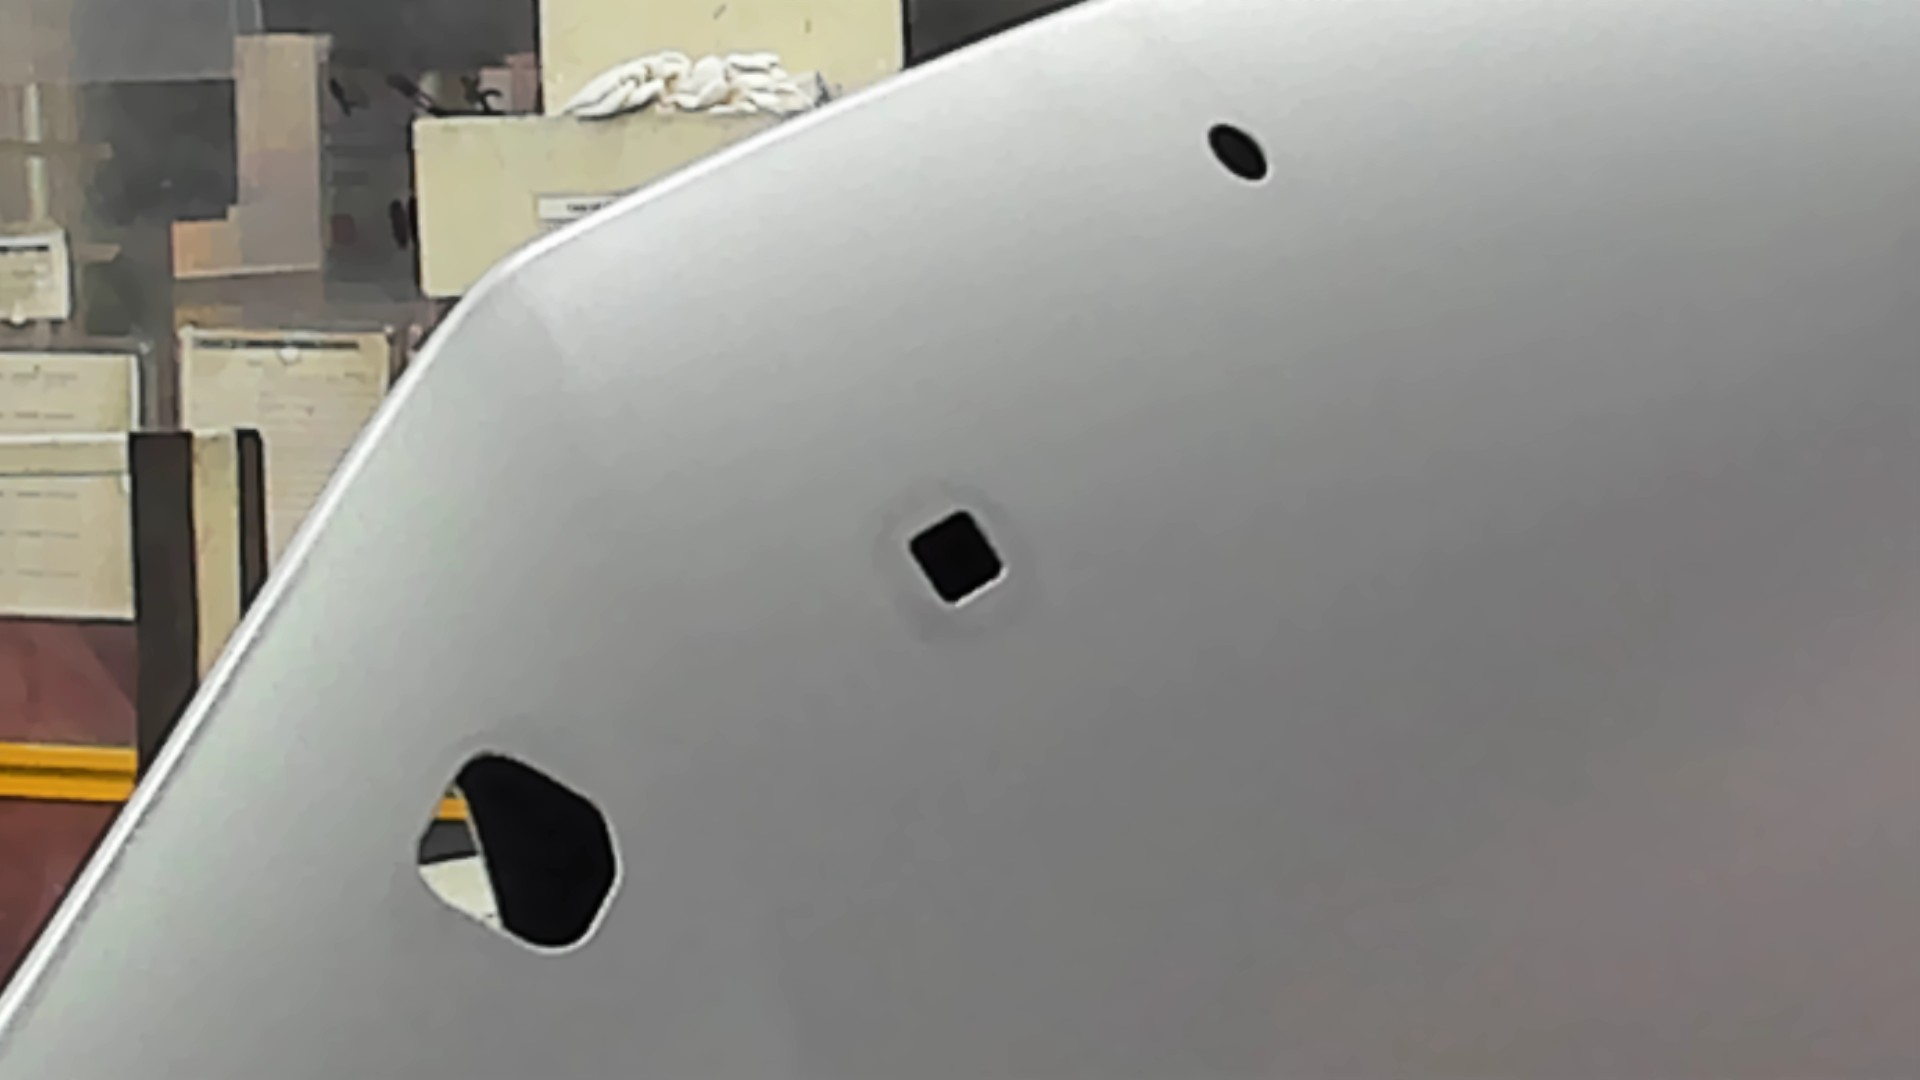capo: (1015, 189, 1920, 1080)
chico: (1205, 117, 1271, 187)
grande: (406, 745, 625, 960)
mediano: (899, 502, 1013, 615)
